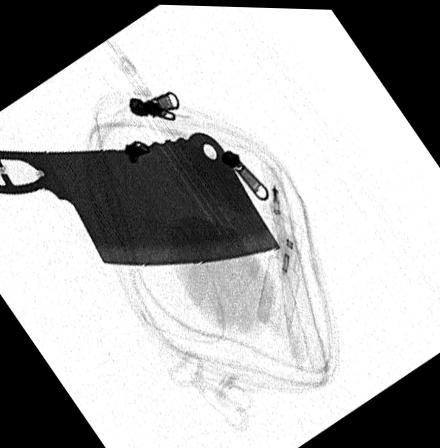Knife: (0, 127, 282, 265)
